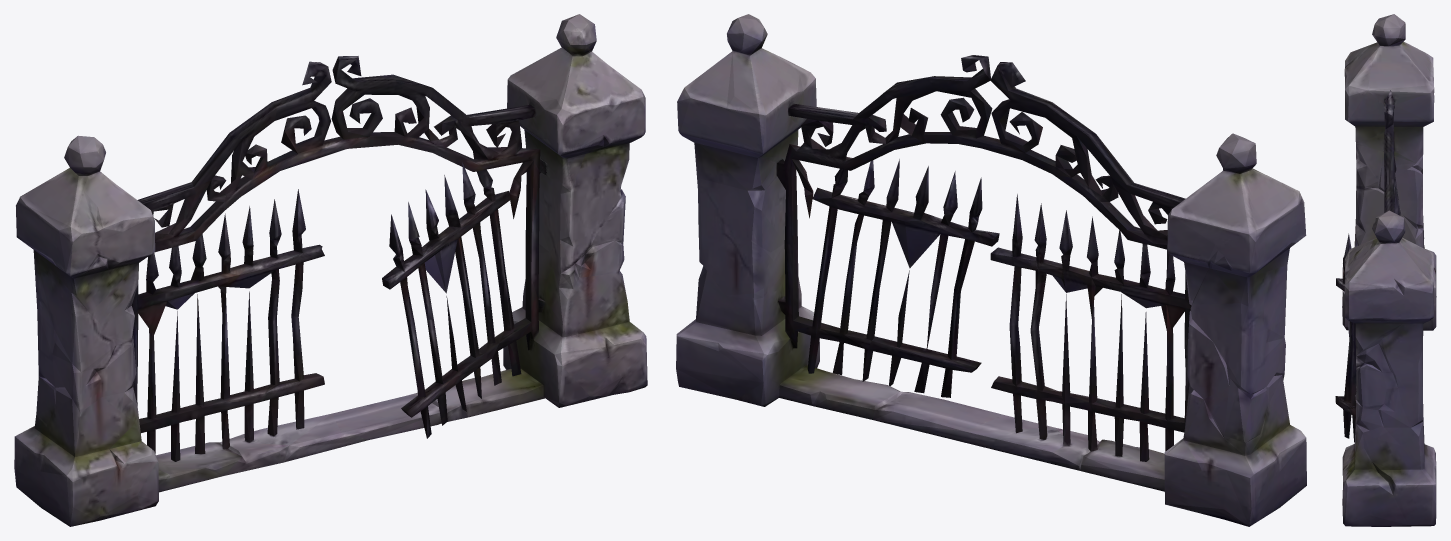
File: oc_gravegate.glb
3 views of the same model, side by side, from view 1: azimuth 30°, elevation 25°; view 2: azimuth 150°, elevation 25°; view 3: azimuth 270°, elevation 25° (orthographic). The views are drawn at different scales.
Parts seen in each view (by area): view 1: W_graveyard_gate_broken; view 2: W_graveyard_gate_broken; view 3: W_graveyard_gate_broken.
Part boxes in pixels (x1,y1,x2,y2): W_graveyard_gate_broken: (14,14,647,526); W_graveyard_gate_broken: (676,14,1306,526); W_graveyard_gate_broken: (1335,14,1436,526).
Size of the model in its own units: 4 by 2.51 by 0.7344.
1 material, 1 textured.
